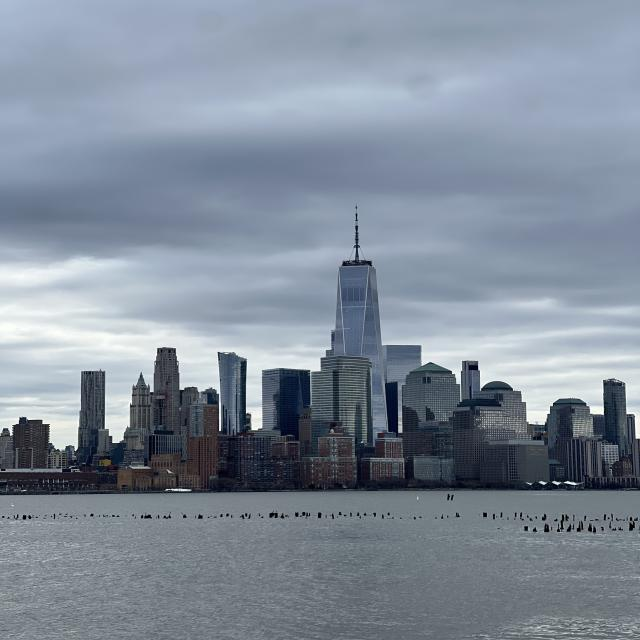WTC: (334, 205, 382, 357)
